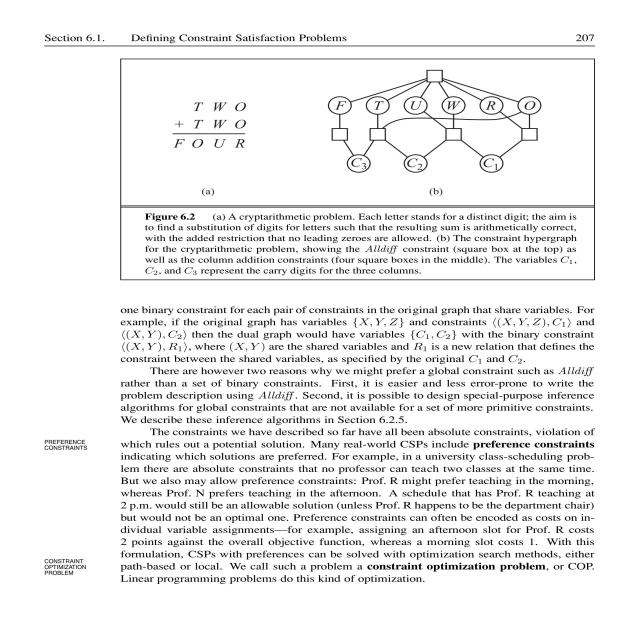diagram: (123, 59, 593, 278)
